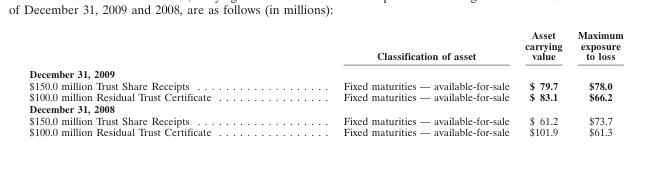table: (28, 28, 622, 138)
table column: (28, 28, 276, 138), (276, 28, 516, 138), (516, 28, 569, 138), (569, 28, 622, 138)
table column header: (28, 28, 622, 64)
table projected row header: (28, 64, 622, 79), (28, 102, 622, 114)
table row: (28, 28, 622, 64), (28, 64, 622, 79), (28, 125, 622, 138), (28, 79, 622, 91), (28, 102, 622, 114), (28, 91, 622, 102), (28, 114, 622, 125)
